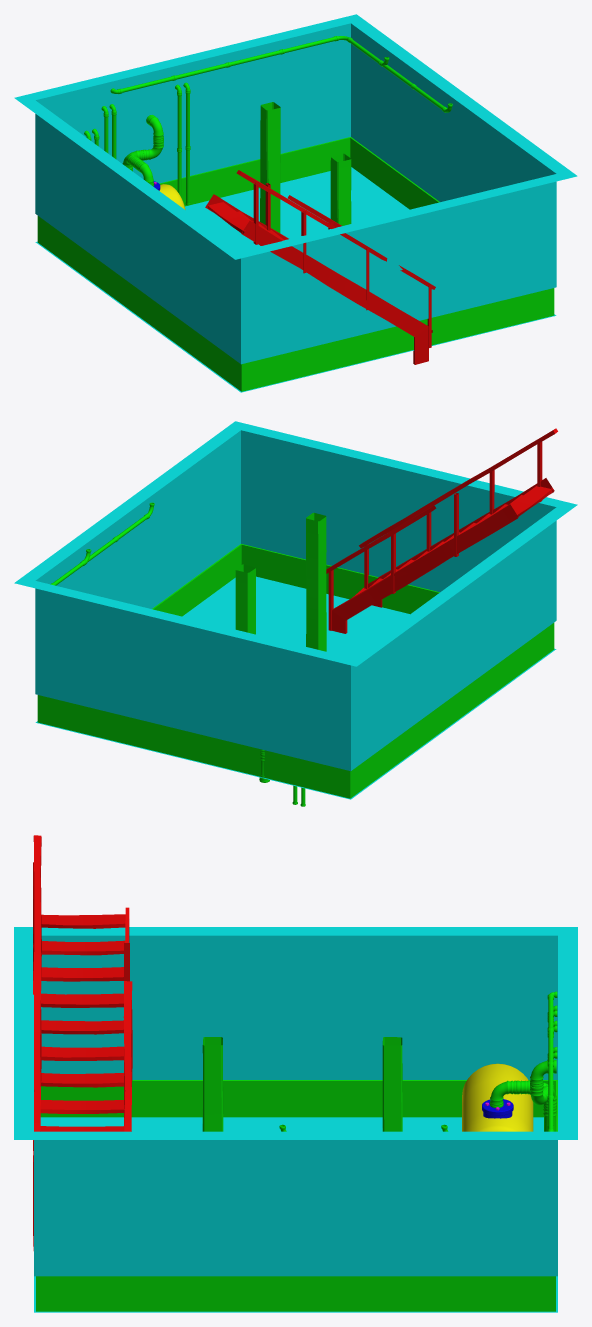
The model's file is estructura-sotano.fbx.
3 views of the same model, one above another, from view 1: azimuth 30°, elevation 25°; view 2: azimuth 150°, elevation 25°; view 3: azimuth 270°, elevation 25° (orthographic). The views are drawn at different scales.
Visible parts, largest first — view 1: sotano_pared, sotano_gradas, sotano_piso, sotano_tubería, sotano_columnas; view 2: sotano_pared, sotano_gradas, sotano_piso, sotano_columnas, sotano_tubería; view 3: sotano_pared, sotano_gradas, sotano_piso, sotano_columnas, sotano_tanque, sotano_tubería.
Part boxes in pixels (<box>): sotano_pared: <box>14,14,577,391</box>; sotano_gradas: <box>205,170,435,364</box>; sotano_piso: <box>35,167,556,392</box>; sotano_tubería: <box>84,36,452,205</box>; sotano_columnas: <box>260,102,351,232</box>; sotano_pared: <box>14,421,577,798</box>; sotano_gradas: <box>326,428,557,633</box>; sotano_piso: <box>35,576,556,799</box>; sotano_columnas: <box>235,512,326,651</box>; sotano_tubería: <box>50,502,305,806</box>; sotano_pared: <box>14,927,577,1311</box>; sotano_gradas: <box>33,835,132,1250</box>; sotano_piso: <box>34,1117,557,1312</box>; sotano_columnas: <box>202,1037,402,1131</box>; sotano_tanque: <box>462,1063,533,1131</box>; sotano_tubería: <box>279,991,557,1131</box>.
Bounding box in the file's own units: 505 × 340 × 565.
